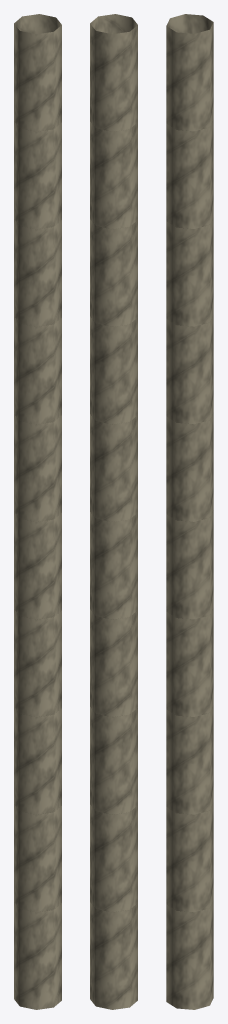
The model's file is ropestraight.glb.
3 renders of one model, left to right at view 1: azimuth 30°, elevation 25°; view 2: azimuth 210°, elevation 25°; view 3: azimuth 270°, elevation 25°, orthographic.
Parts seen in each view (by area): view 1: ropestraight; view 2: ropestraight; view 3: ropestraight.
Boxes of the visible parts, <box> form: ropestraight: <box>14,14,61,1009</box>; ropestraight: <box>90,14,137,1009</box>; ropestraight: <box>166,14,213,1009</box>.
Bounding box in the file's own units: 0.1328 × 3.03 × 0.1328.
Materials: 1 (1 with a texture image).
